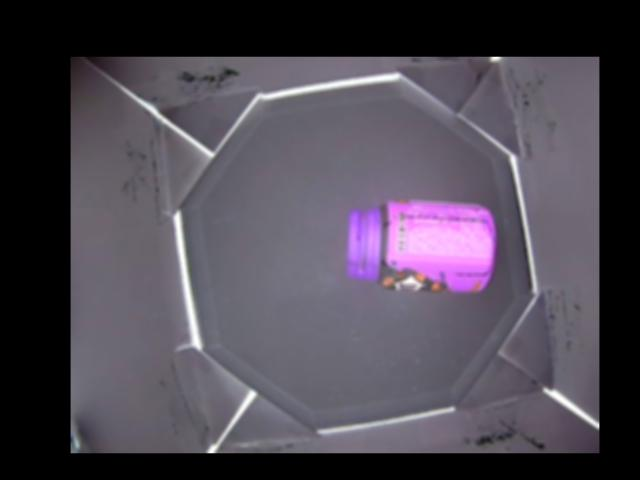Bottle: (348, 198, 496, 293)
